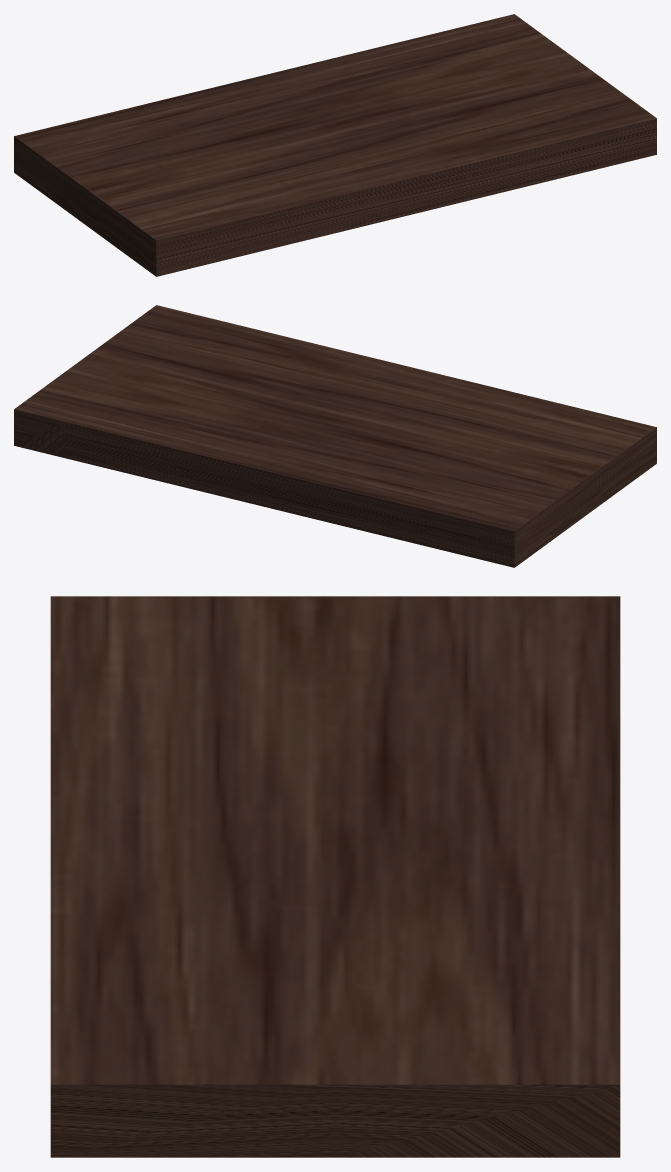
Rendered from NNJ0510023.fbx.
3 views of the same model, one above another, from view 1: azimuth 30°, elevation 25°; view 2: azimuth 150°, elevation 25°; view 3: azimuth 270°, elevation 25° (orthographic). The views are drawn at different scales.
Parts seen in each view (by area): view 1: smNNJ0510023; view 2: smNNJ0510023; view 3: smNNJ0510023.
Part boxes in pixels (<box>): smNNJ0510023: <box>14,14,656,276</box>; smNNJ0510023: <box>14,305,656,567</box>; smNNJ0510023: <box>50,596,620,1157</box>.
Bounding box in the file's own units: 108 × 7.53 × 53.36.
Materials: 1 (1 with a texture image).
